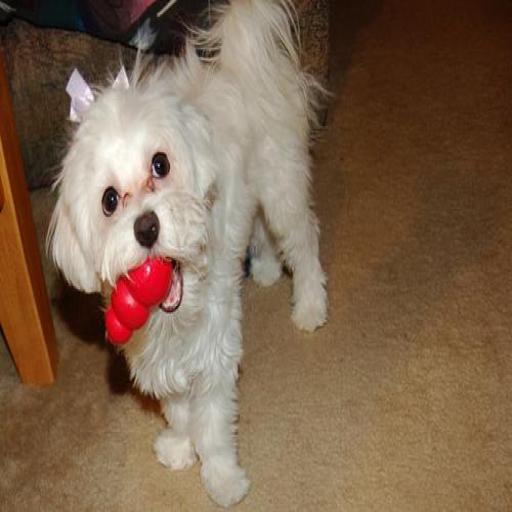dog_face: (53, 75, 209, 326)
